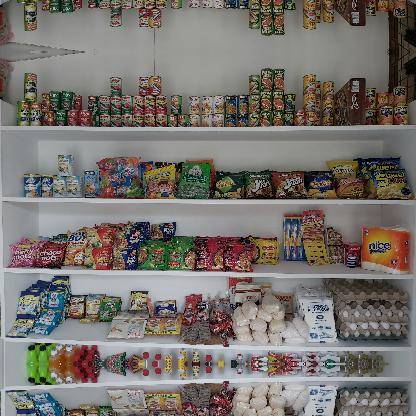Koko-Krunch: (334, 78, 366, 124), (334, 0, 366, 27)
